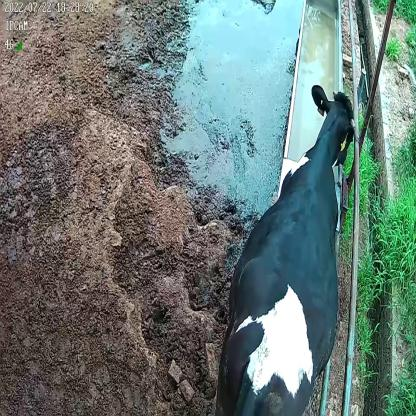cow: (218, 84, 358, 416)
